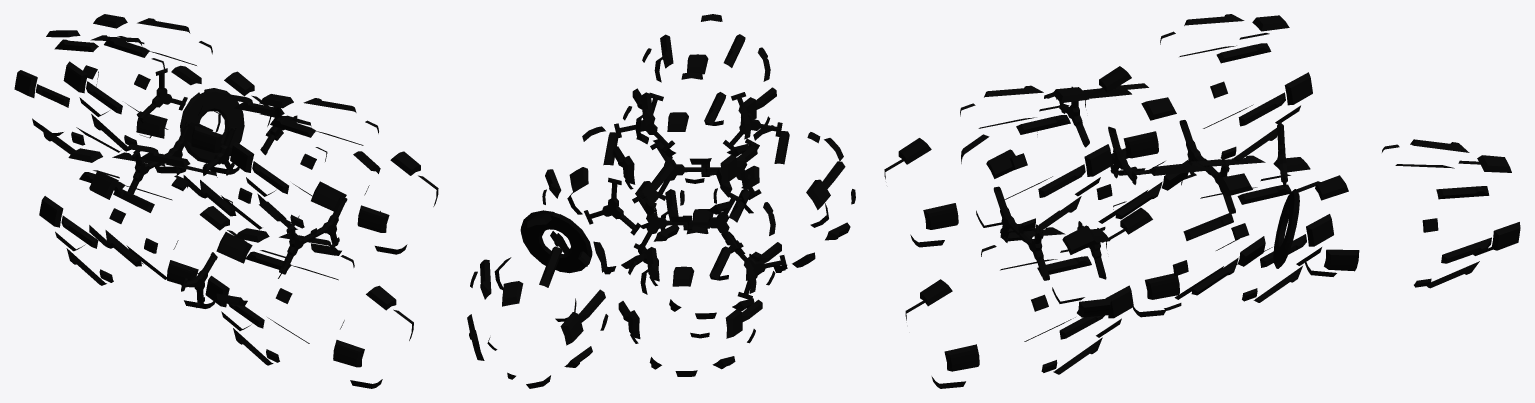
Rendered from prop_static_yao_container_02_01.glb.
3 renders of one model, left to right at view 1: azimuth 30°, elevation 25°; view 2: azimuth 150°, elevation 25°; view 3: azimuth 270°, elevation 25°, orthographic. The views are drawn at different scales.
Visible parts, largest first — view 1: yao_container_02_01_LOD0; view 2: yao_container_02_01_LOD0; view 3: yao_container_02_01_LOD0.
Boxes of the visible parts, x1,y1,x2,y2 form: yao_container_02_01_LOD0: (14,14,438,388); yao_container_02_01_LOD0: (467,14,855,388); yao_container_02_01_LOD0: (884,14,1520,388).
Size of what is drawn, in the model's own units: 3.06 by 3.17 by 5.87.
1 material, 1 textured.
